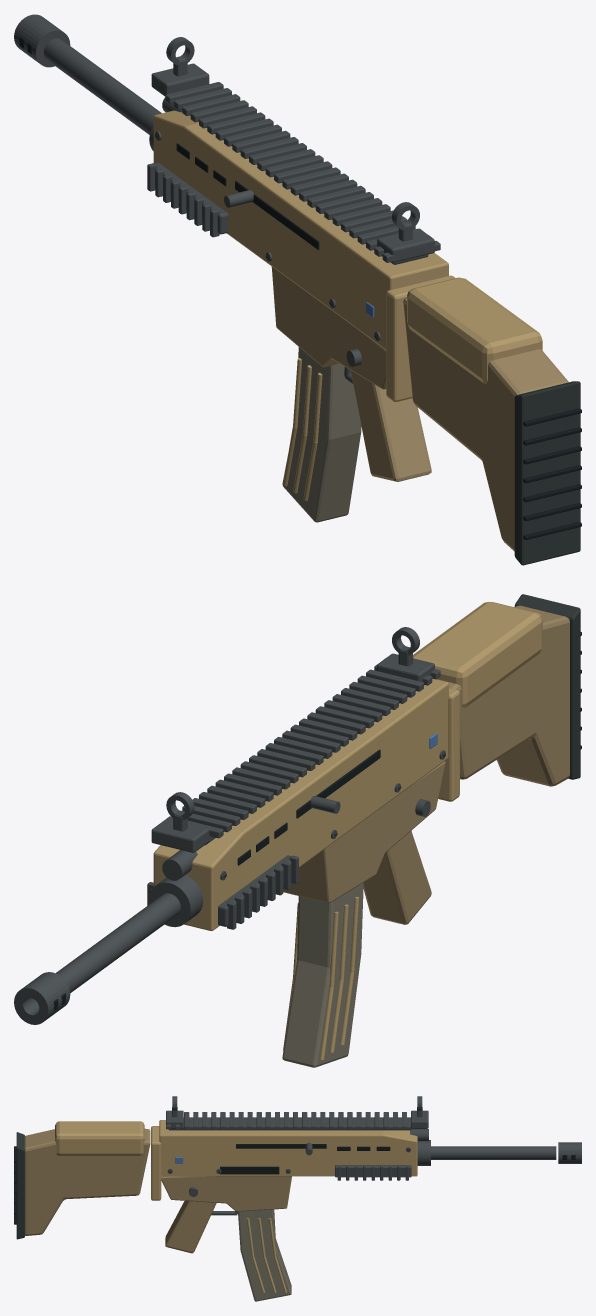
The model's file is rifle_2.glb.
The picture shows the model from 3 angles, top to bottom: view 1: azimuth 30°, elevation 25°; view 2: azimuth 150°, elevation 25°; view 3: azimuth 270°, elevation 25°; orthographic projection. The views are drawn at different scales.
Parts seen in each view (by area): view 1: Weapon_rifle_realism_v2; view 2: Weapon_rifle_realism_v2; view 3: Weapon_rifle_realism_v2.
Part boxes in pixels (x1,y1,x2,y2): Weapon_rifle_realism_v2: [14, 14, 581, 565]; Weapon_rifle_realism_v2: [14, 594, 581, 1067]; Weapon_rifle_realism_v2: [14, 1096, 581, 1301].
Bounding box in the file's own units: 0.122 × 0.3904 × 1.
